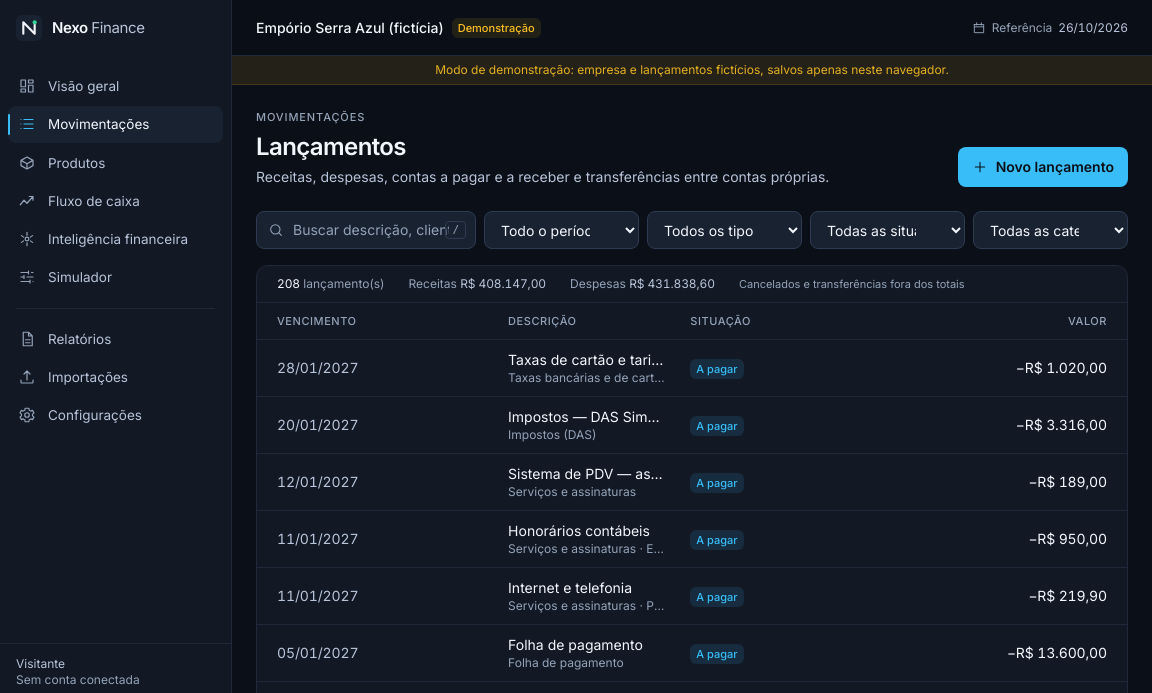
Test: formulários › novo lançamento valida campos e cria sem recarregar a página
Expected: the heading "Lançamentos" is shown, [256, 132, 406, 161]
Click the button "Novo lançamento" at (1043, 167), box [958, 147, 1128, 187]
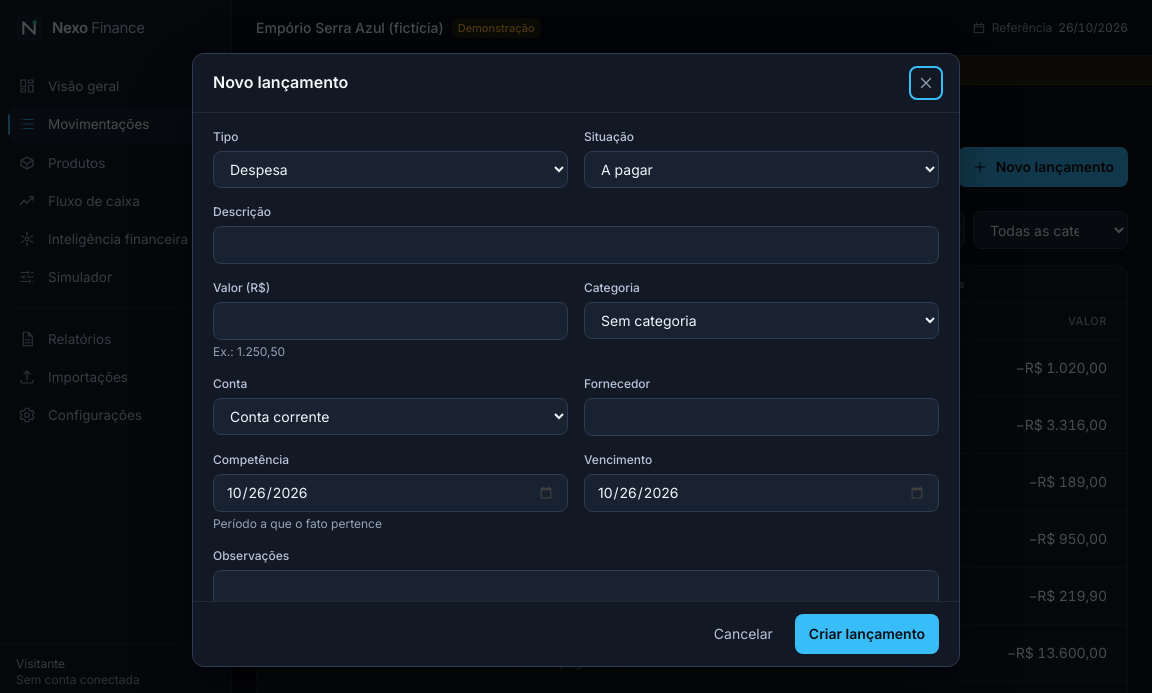
Click the button "Criar lançamento" at (867, 634), box [795, 614, 939, 654]
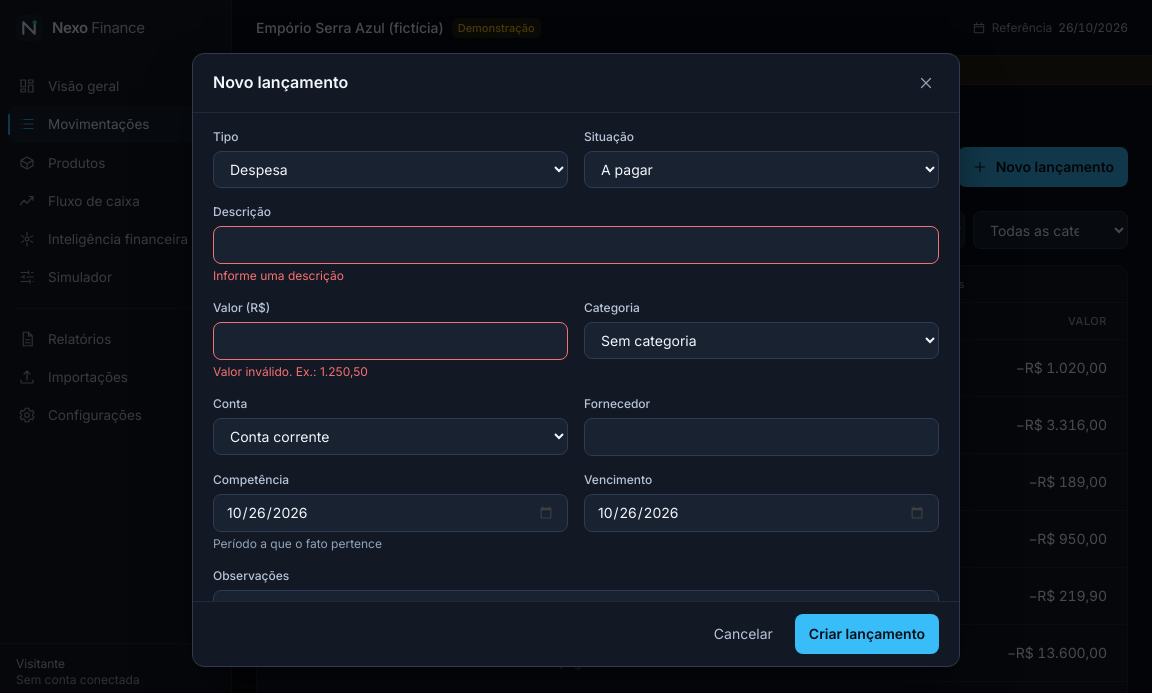
Now the text "Informe uma descrição" is shown, box [213, 268, 344, 283]
Now the text "Valor inválido. Ex.: 1.250,50" is shown, box [213, 364, 368, 379]
Type "Compra de teste unitário" into the field labelled "Descrição" at (576, 245), box [213, 226, 939, 264]
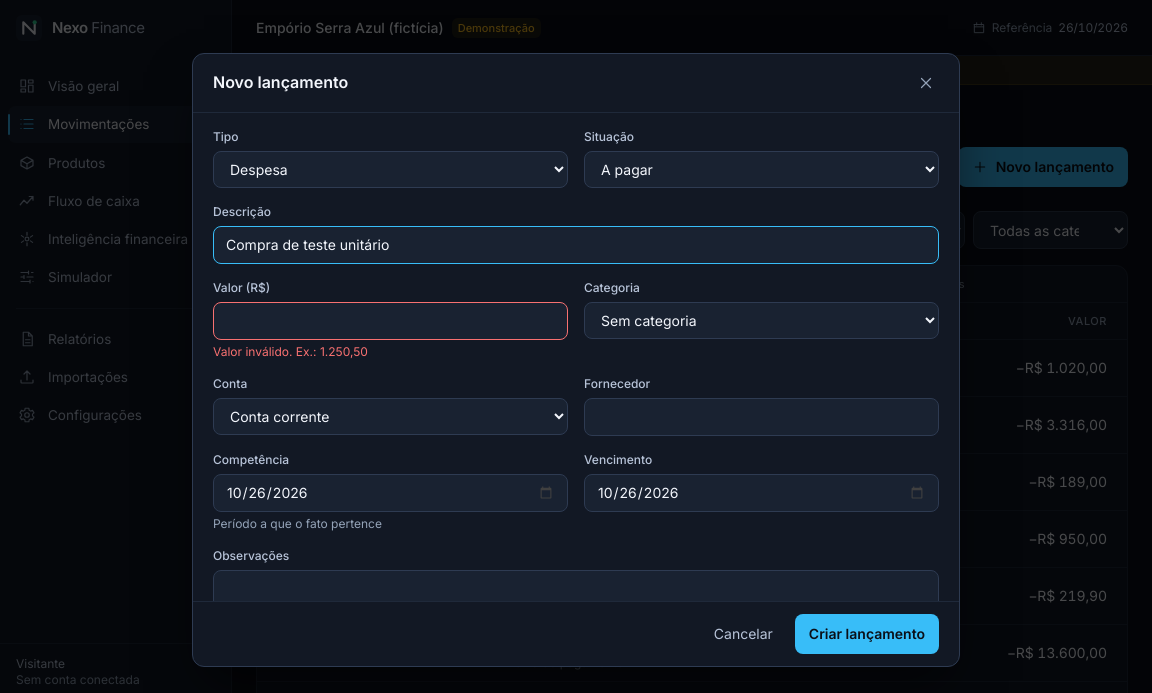
Type "99,90" into the field labelled "Valor (R$)" at (390, 321), box [213, 302, 568, 340]
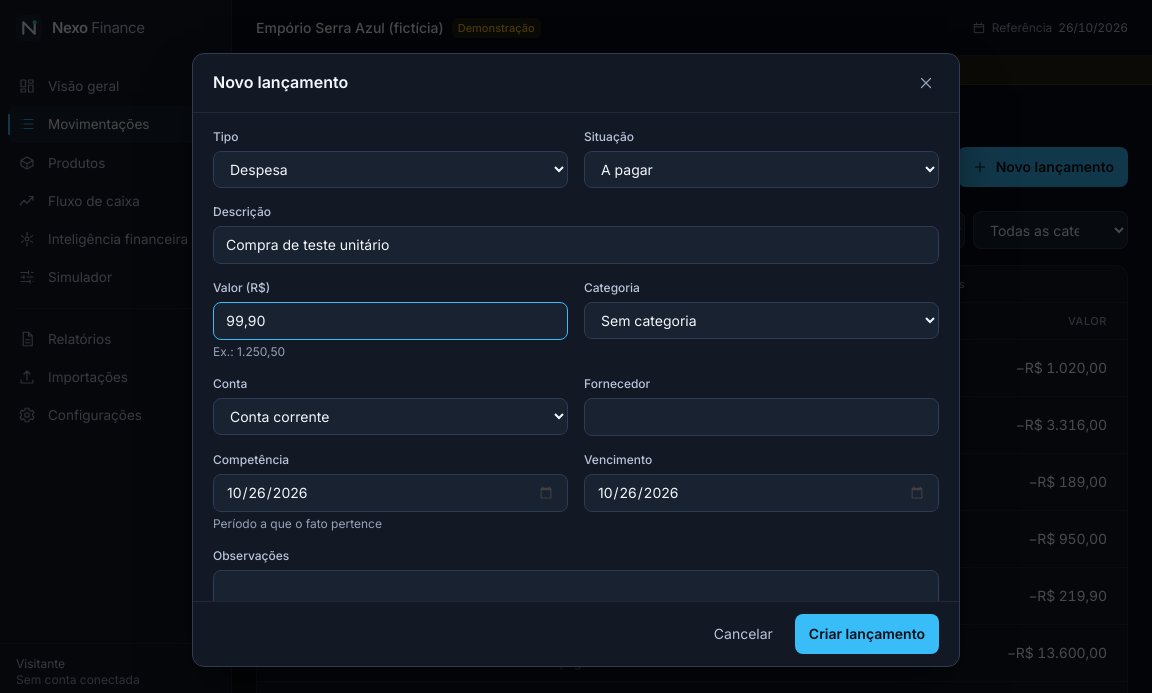
Click the button "Criar lançamento" at (867, 634), box [795, 614, 939, 654]
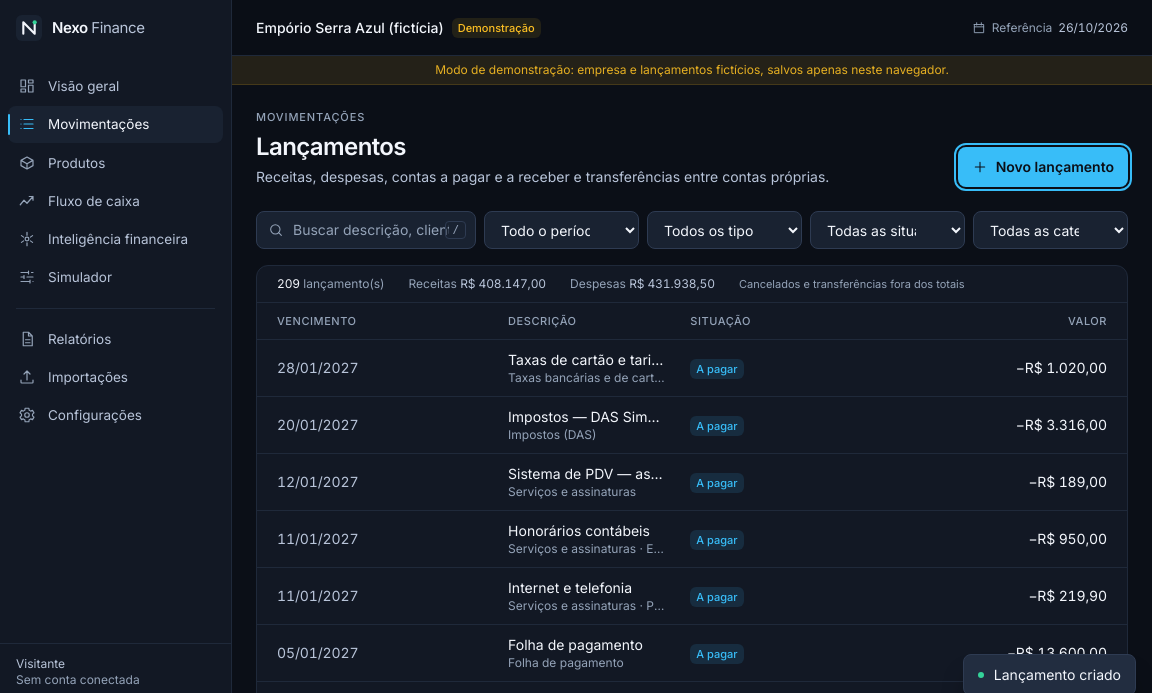
Type "teste unitário" into the search field named "Buscar lançamentos" at (366, 230), box [256, 211, 476, 249]
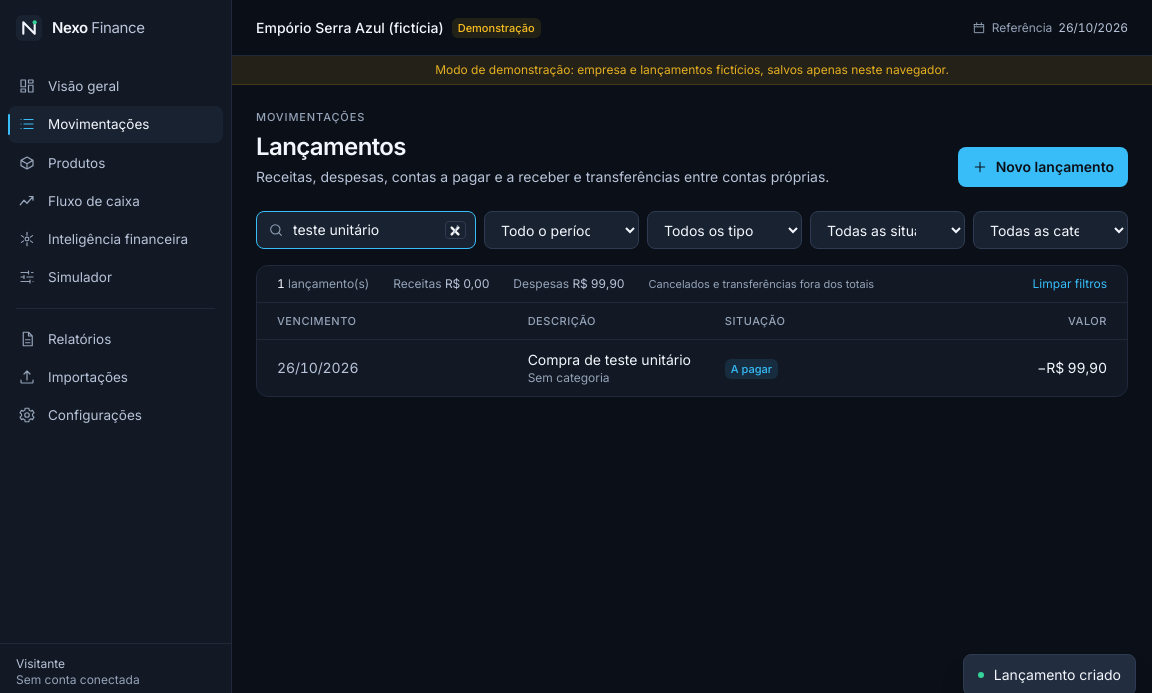
Now the text "Compra de teste unitário" is shown, box [528, 350, 701, 370]
Now the text "−R$ 99,90" is shown, box [1037, 359, 1107, 376]
